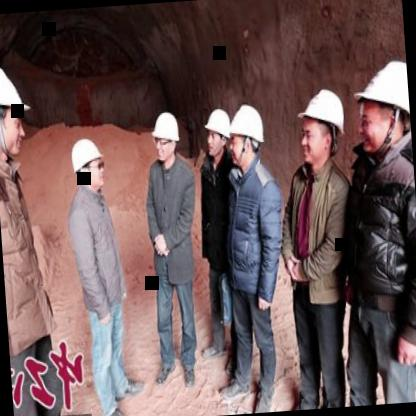helmet: (352, 60, 413, 164), (294, 84, 350, 170), (0, 56, 33, 173), (226, 102, 266, 174), (68, 134, 110, 196), (151, 106, 183, 166), (203, 104, 233, 161)
